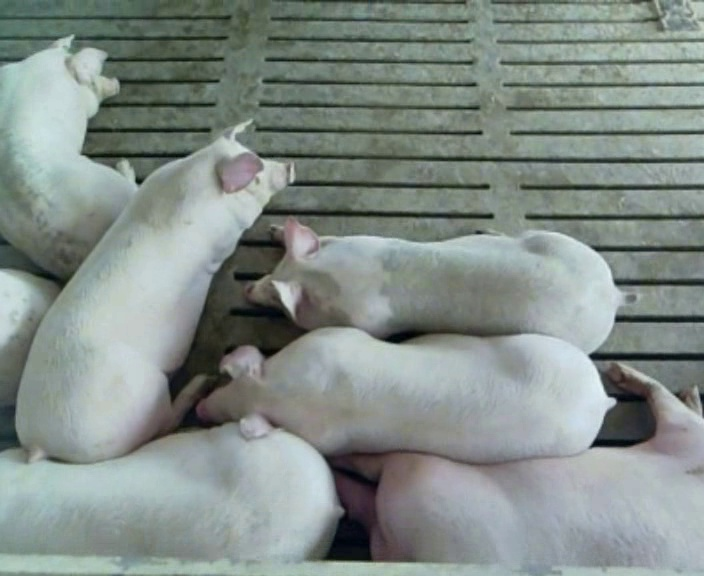pig: (16, 122, 292, 462), (332, 364, 703, 568), (197, 327, 611, 462), (247, 218, 639, 352), (0, 423, 342, 558), (0, 36, 136, 278)
